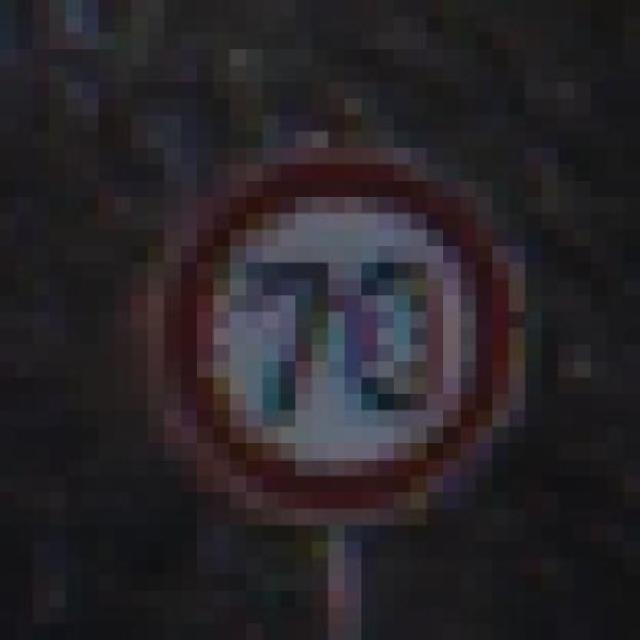forb_speed_over_70: (167, 162, 518, 509)
